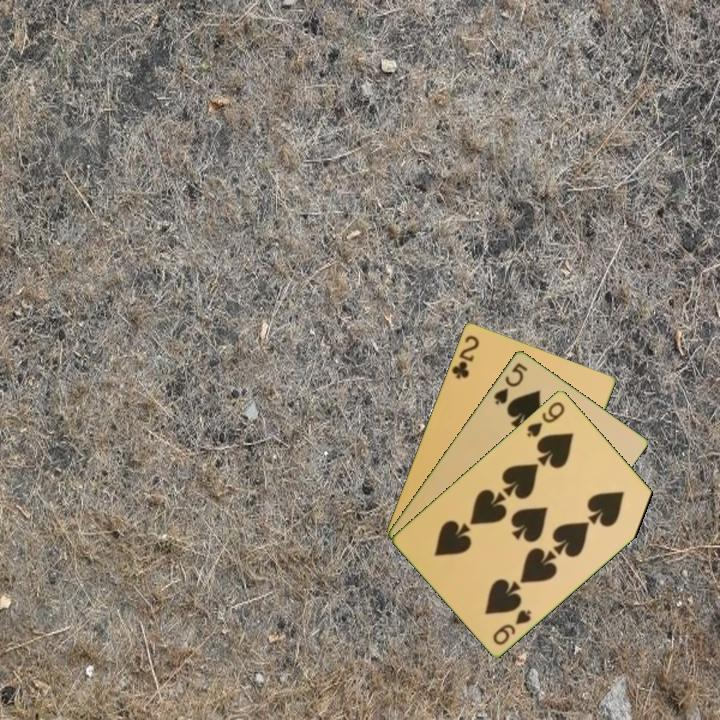2c: (448, 331, 482, 382)
5s: (490, 359, 531, 407)
9s: (523, 397, 568, 440), (489, 605, 534, 648)
